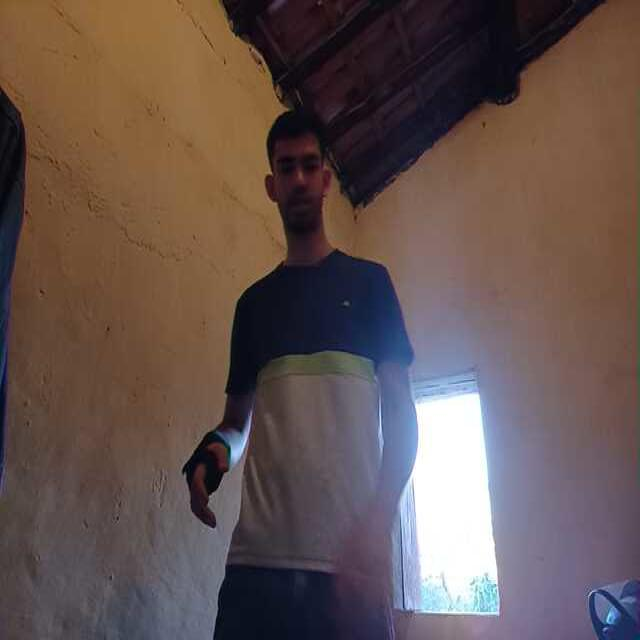capacete: (587, 577, 640, 640)
pessoa: (200, 107, 409, 640)
